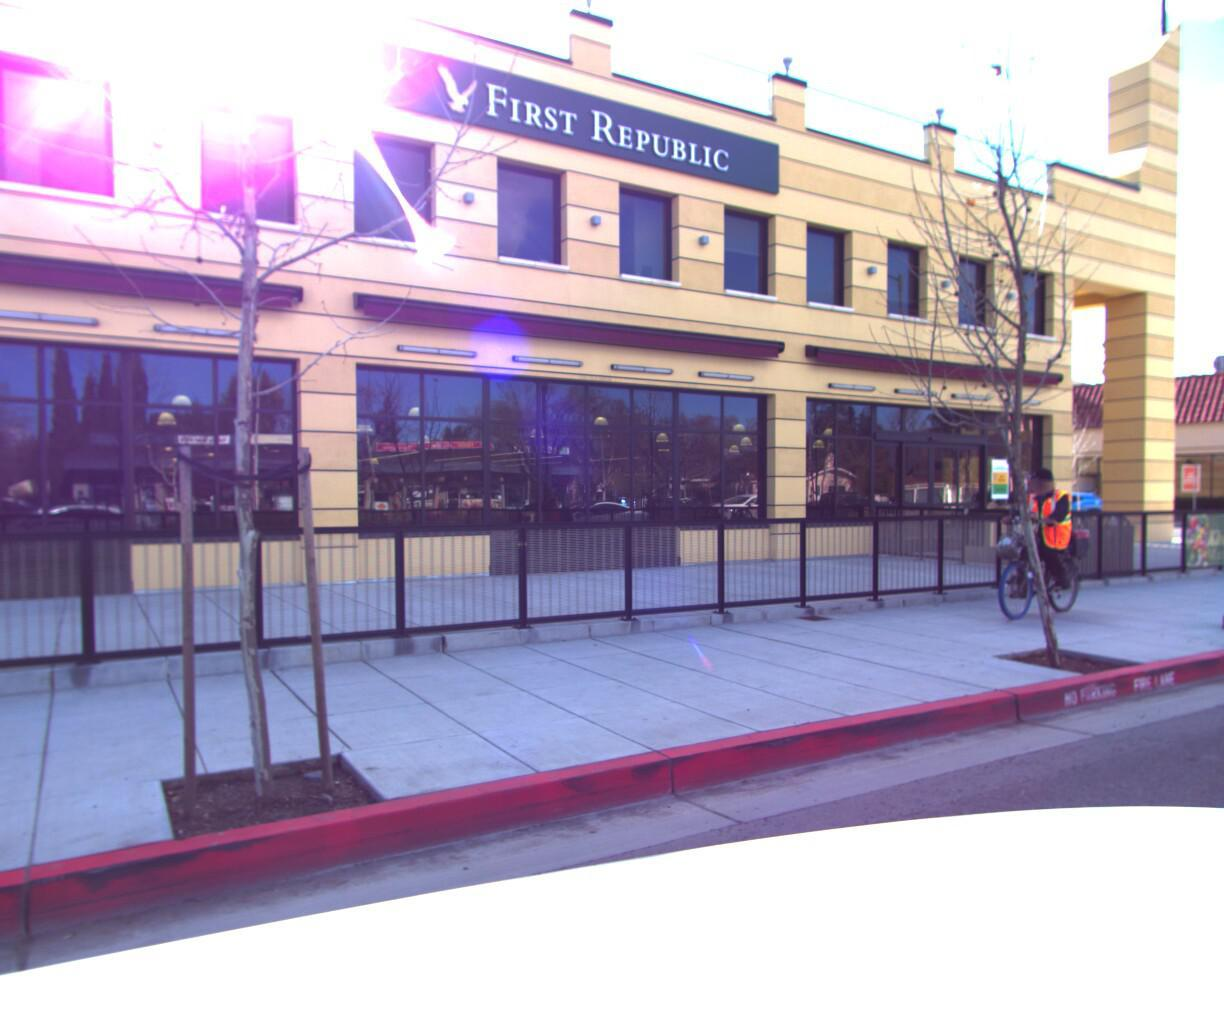bicycle: (969, 451, 1127, 614)
car: (1003, 488, 1141, 525)
